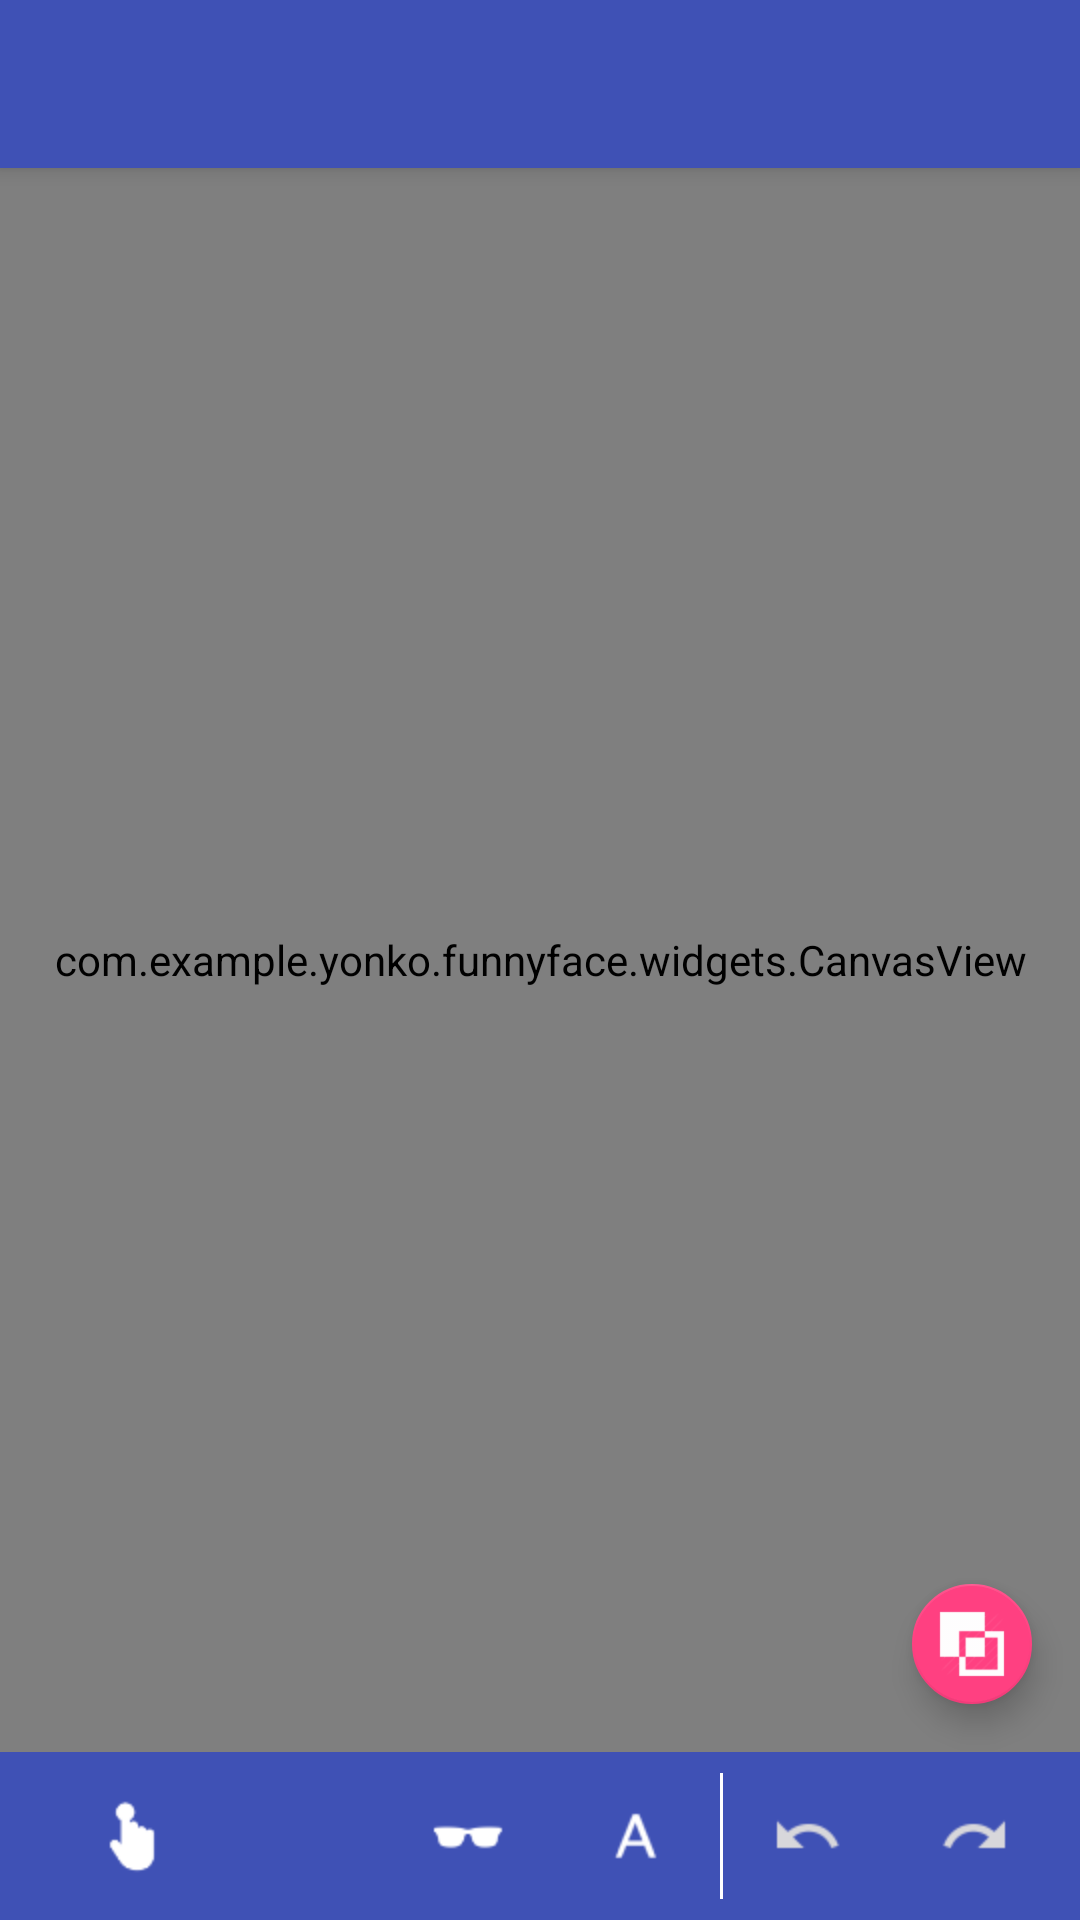

Named icons in this screenshot (1080 × 1920) and their centers, point (x, y):
content redo not: point (974, 1835)
content stickers: point (468, 1837)
content text sticker: point (636, 1836)
content undo not: point (807, 1835)
difference: point (972, 1644)
